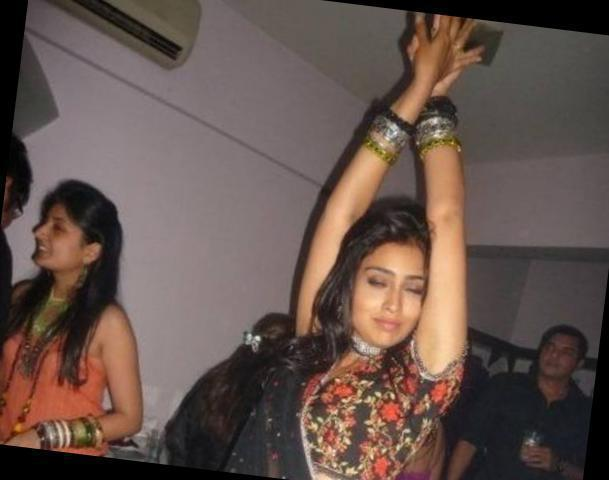Drunk: (351, 238, 420, 336)
